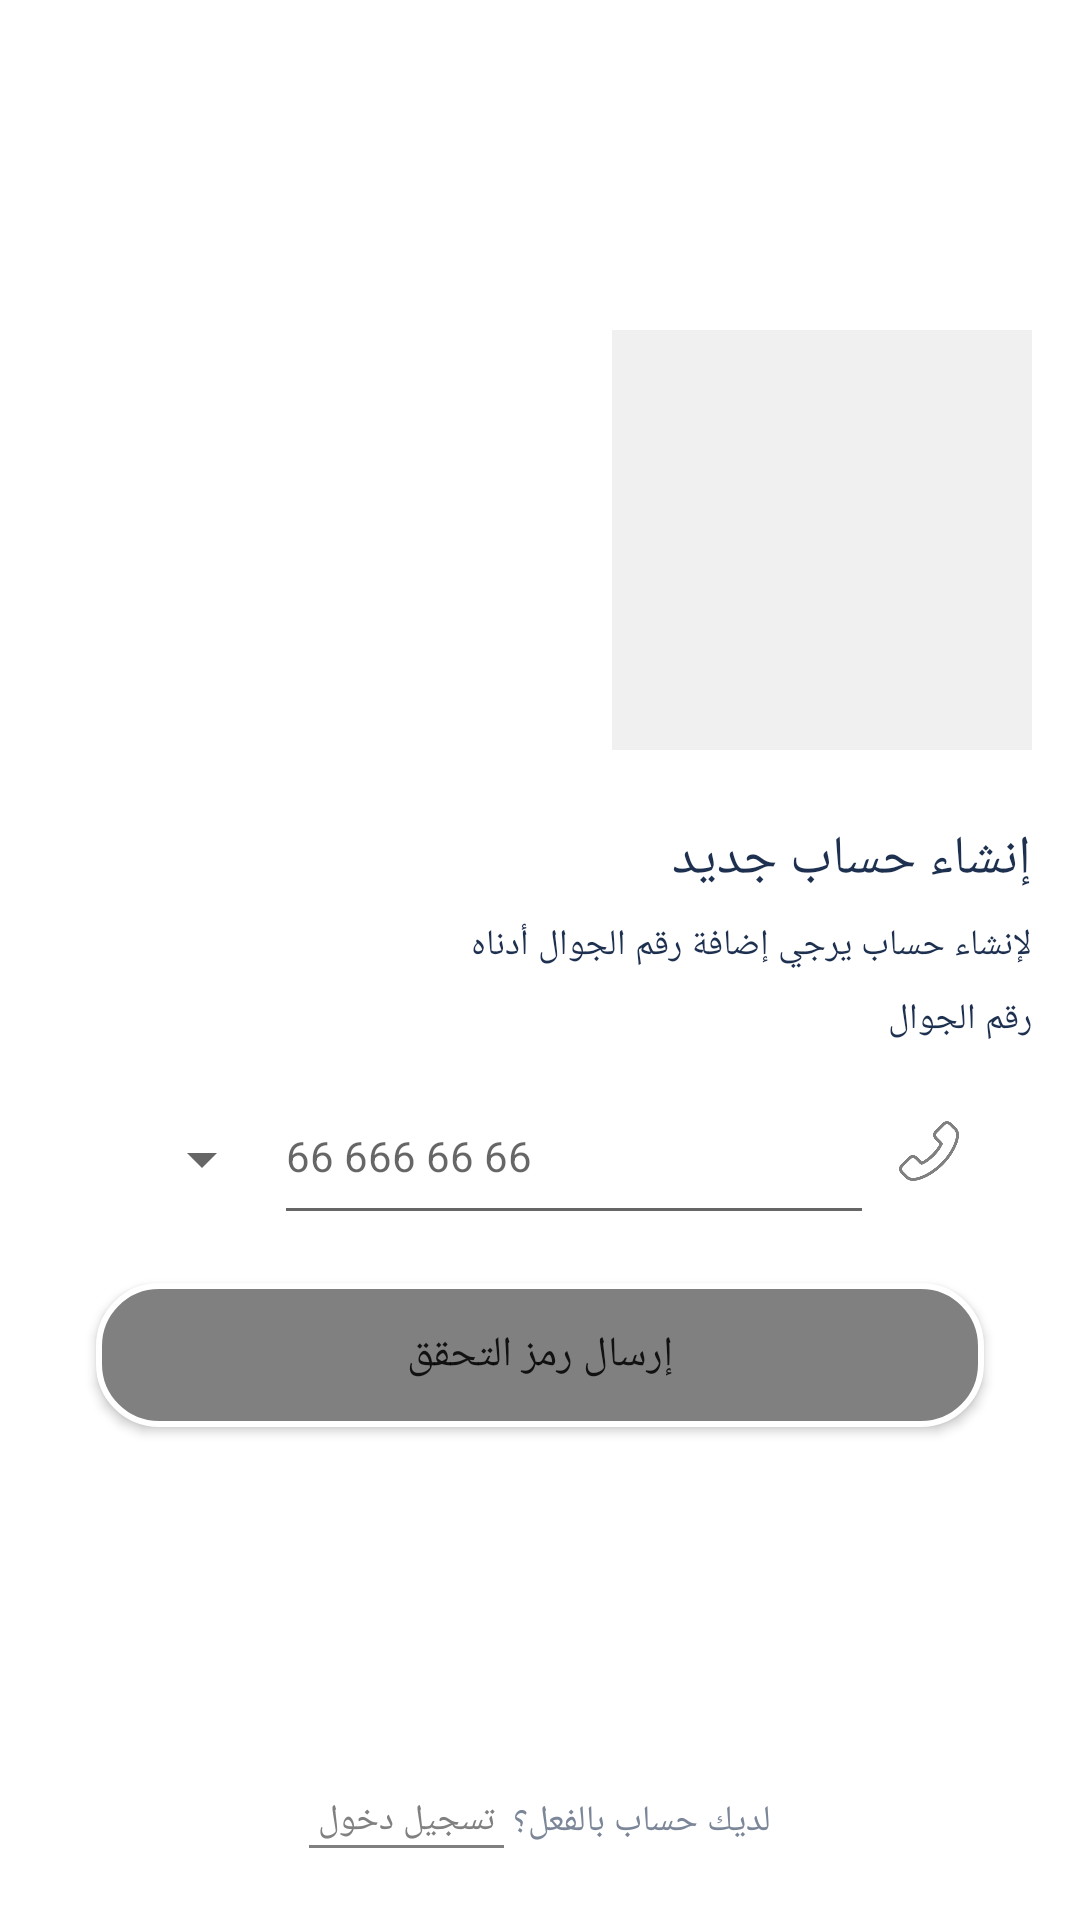

Screen size 1080 × 1920. Icon name, then its box in pixels as (x1, y1, x2, y2):
telephone: (899, 1121, 959, 1181)
